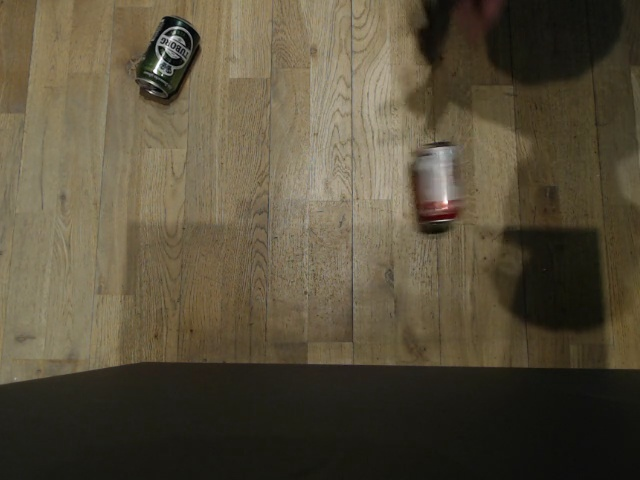beer: (132, 13, 203, 102)
cola: (400, 138, 474, 234)
